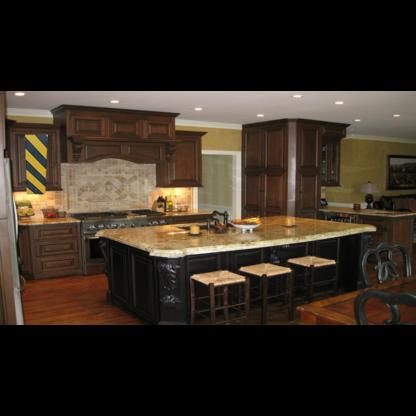O-MP: (25, 135, 48, 194)
